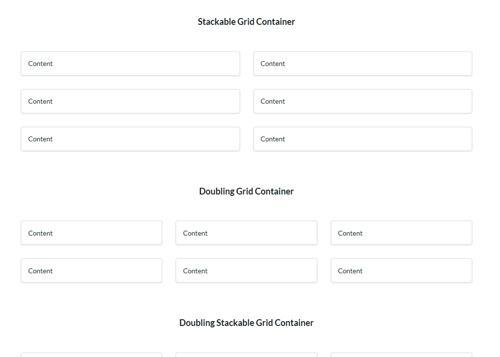input: (254, 52, 474, 77), (22, 53, 241, 78), (255, 128, 473, 153), (22, 128, 240, 153), (21, 91, 241, 114), (254, 91, 474, 114), (332, 220, 475, 246), (22, 221, 163, 246), (176, 221, 320, 245), (177, 260, 320, 284), (21, 260, 164, 284), (333, 260, 474, 284)
label: (177, 315, 316, 330), (197, 188, 297, 199), (198, 17, 297, 28)
